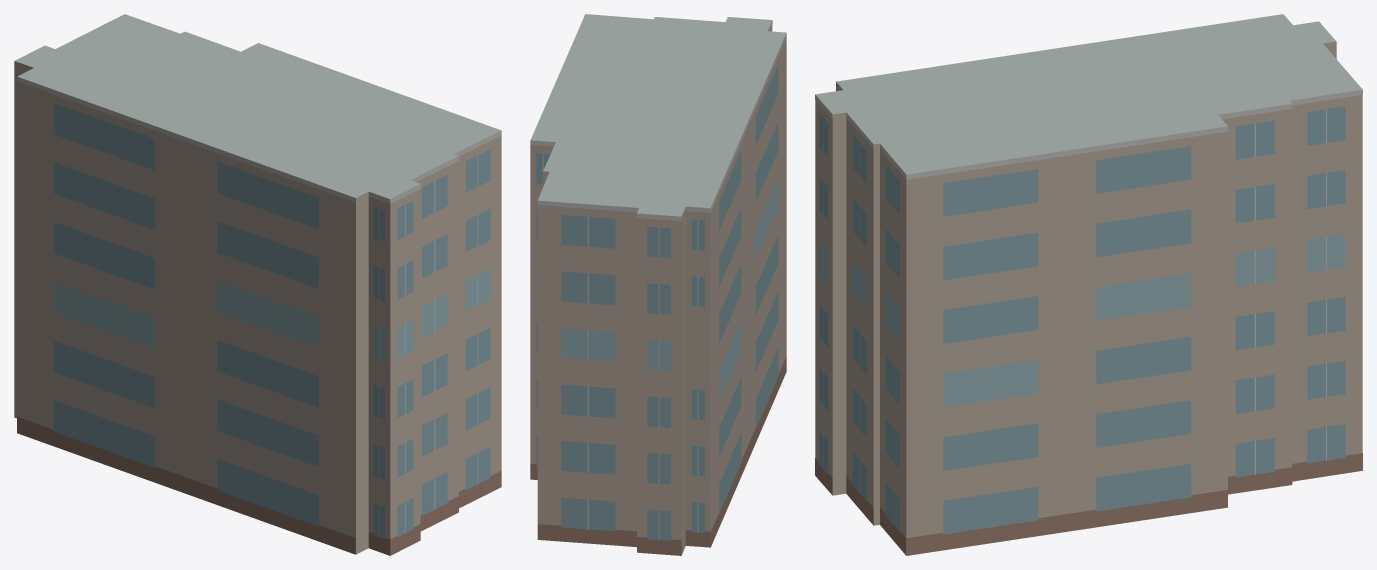
File: survey-upis-32988359.glb
3 renders of one model, left to right at view 1: azimuth 30°, elevation 25°; view 2: azimuth 150°, elevation 25°; view 3: azimuth 270°, elevation 25°, orthographic. The views are drawn at different scales.
Parts seen in each view (by area): view 1: survey-upis-32988359.tmp; view 2: survey-upis-32988359.tmp; view 3: survey-upis-32988359.tmp.
Part boxes in pixels (x1,y1,x2,y2): survey-upis-32988359.tmp: (14, 14, 501, 555); survey-upis-32988359.tmp: (530, 14, 786, 555); survey-upis-32988359.tmp: (815, 14, 1362, 555).
Bounding box in the file's own units: 16.19 × 17.9 × 23.32.
